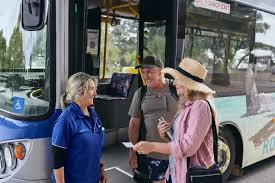bus: (1, 1, 275, 182)
